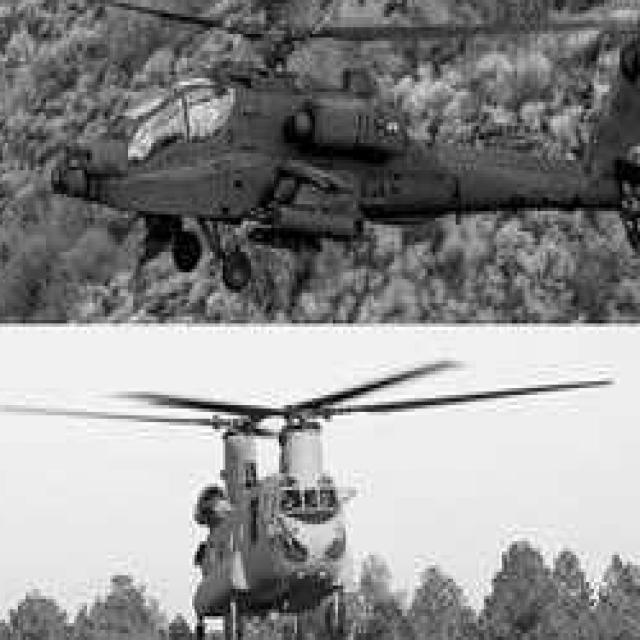helicopter: (3, 1, 640, 307), (131, 334, 426, 640)
